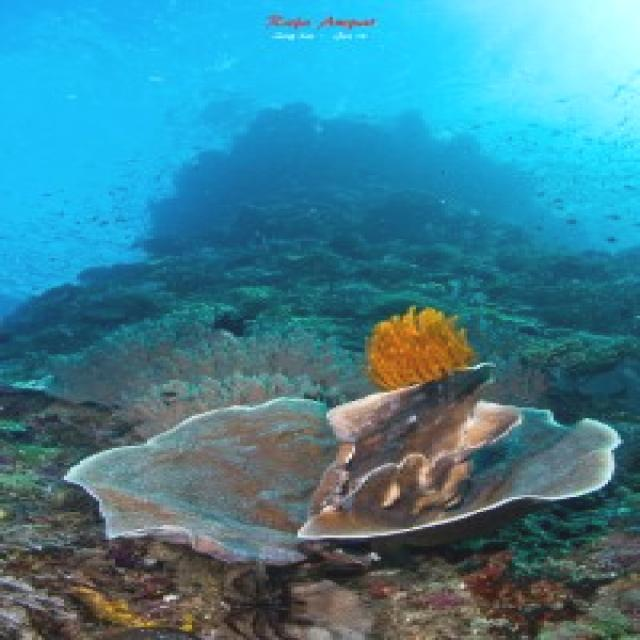Coral: (26, 361, 336, 566), (297, 362, 625, 542), (45, 315, 368, 440), (363, 305, 478, 392)
